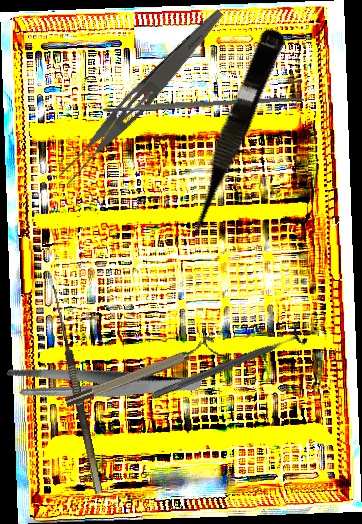Dressing Forceps: (54, 0, 228, 190), (2, 326, 203, 442)
Fixation Ring: (146, 319, 311, 409), (61, 334, 219, 410)
Hook Surgical: (40, 284, 103, 497)
Micro Scissor: (174, 22, 288, 248)
Scalpel Handle: (102, 94, 305, 114)
